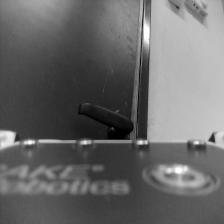Door Handle: (78, 102, 134, 140)
